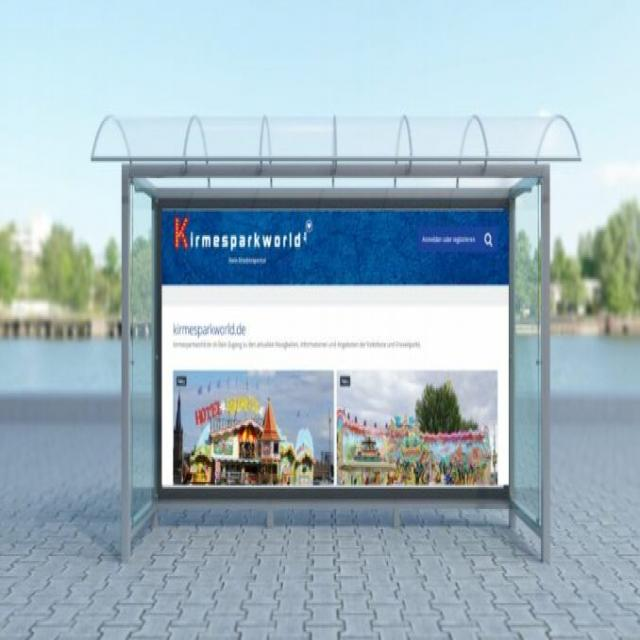Werbetafel frei: (155, 195, 514, 511)
